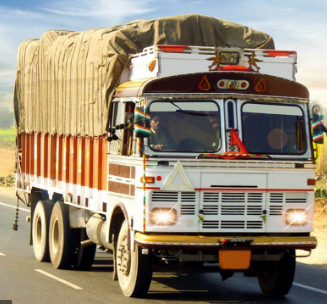truck: (14, 14, 317, 299)
